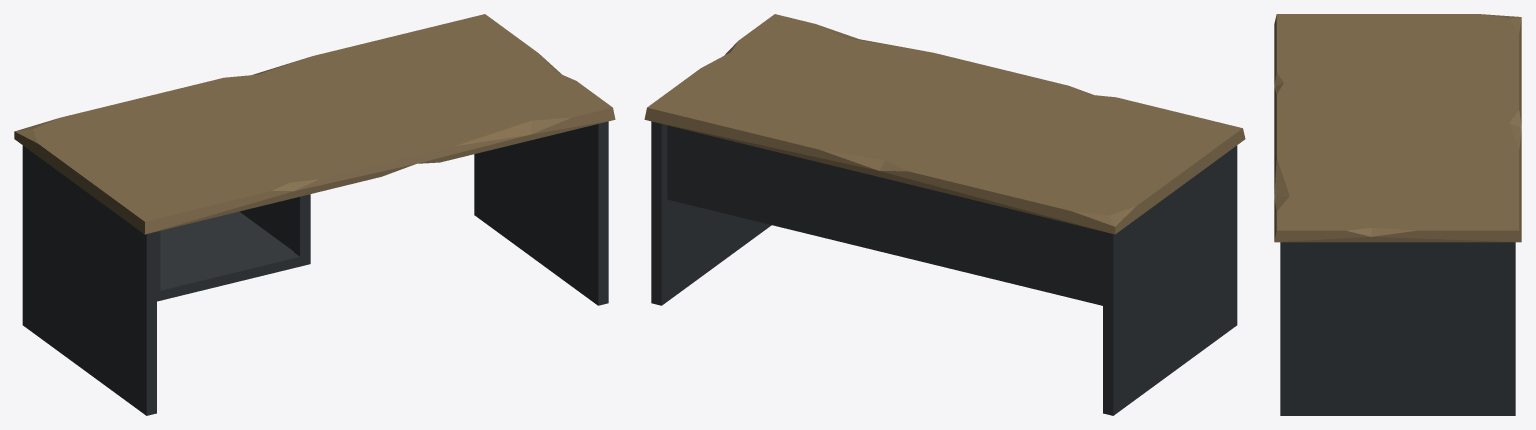
File: SM_Prop_Desk_01.glb
The picture shows the model from 3 angles, left to right: view 1: azimuth 30°, elevation 25°; view 2: azimuth 150°, elevation 25°; view 3: azimuth 270°, elevation 25°; orthographic projection. The views are drawn at different scales.
Parts seen in each view (by area): view 1: SM_Prop_Desk_01; view 2: SM_Prop_Desk_01; view 3: SM_Prop_Desk_01.
Boxes of the visible parts, left/top/right/bottom form: SM_Prop_Desk_01: left=14, top=14, right=615, bottom=415; SM_Prop_Desk_01: left=644, top=14, right=1245, bottom=415; SM_Prop_Desk_01: left=1274, top=14, right=1521, bottom=415.
Bounding box in the file's own units: 2.3 × 0.9176 × 1.1.
1 material, 1 textured.
